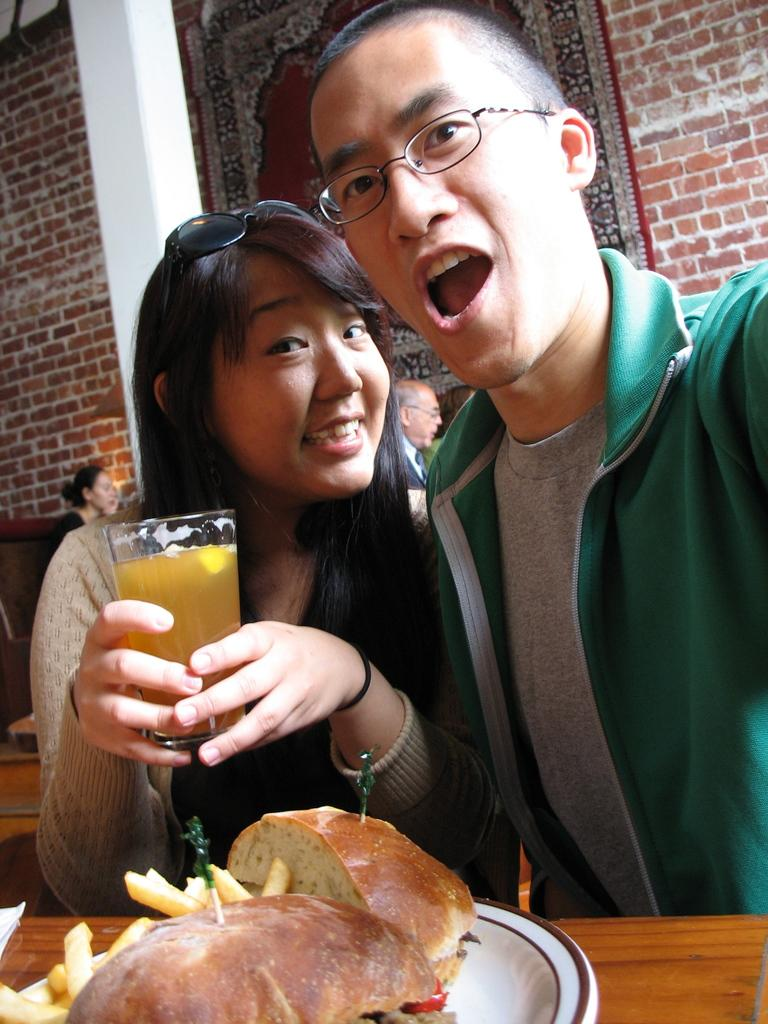Sem Máscara: (297, 14, 587, 363), (189, 242, 380, 491), (409, 384, 439, 440), (87, 467, 117, 516)
